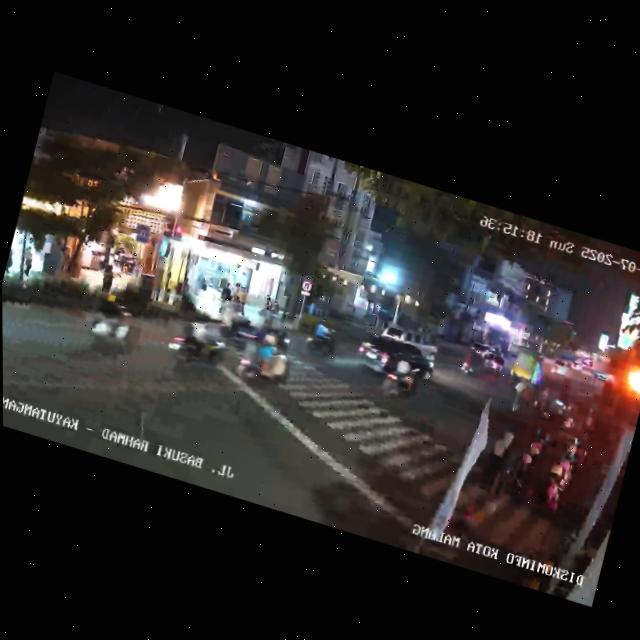car: (353, 325, 439, 390), (377, 321, 442, 364), (542, 356, 573, 382)
motorcycle: (229, 321, 298, 394), (166, 306, 234, 380), (82, 293, 138, 355), (379, 348, 425, 405), (302, 315, 343, 363), (457, 347, 481, 380), (479, 348, 506, 377)
person: (470, 422, 518, 508), (213, 278, 234, 318), (18, 244, 37, 281), (99, 261, 118, 295), (234, 284, 250, 317), (3, 245, 19, 278)
